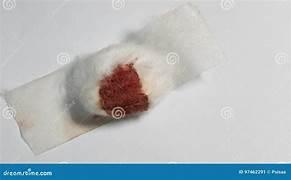cotton: (5, 3, 222, 153), (67, 43, 181, 115)
